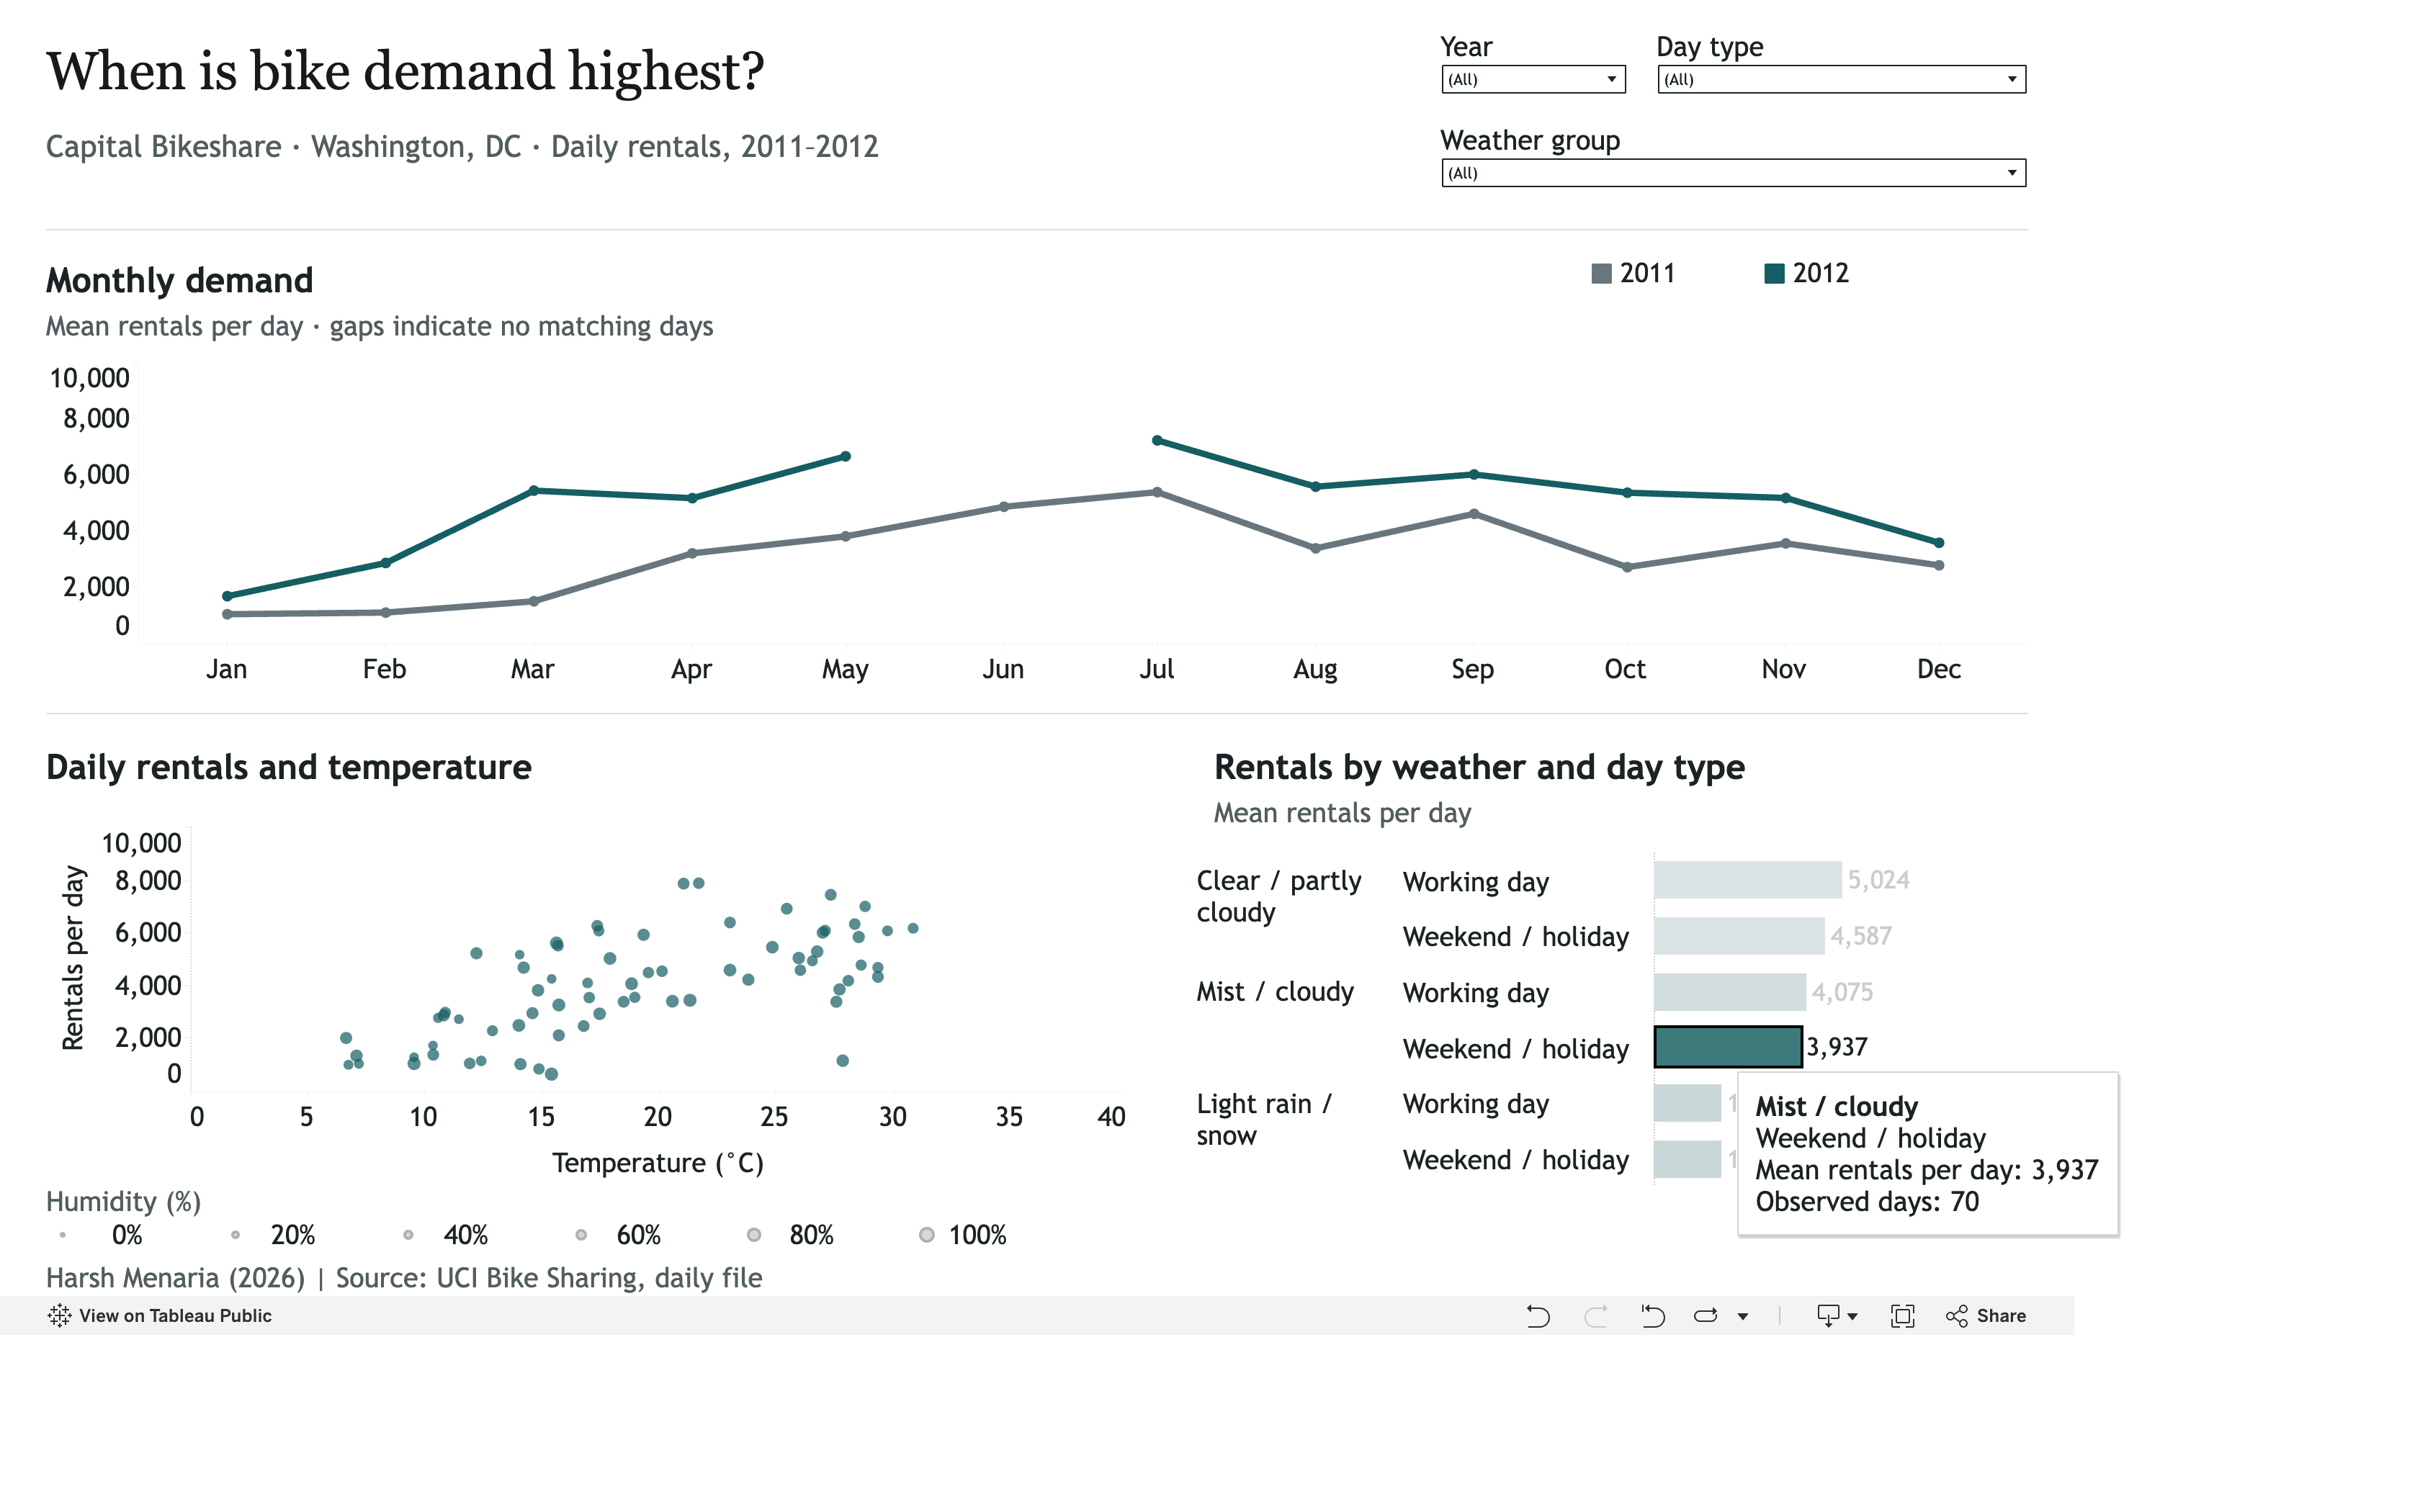

What the dashboard file says about the page in this screenshot:
{"tool":"tableau","page":{"name":"Bike demand | Prototype","canvas":[1440,900],"ordinal":0},"visuals":[{"type":"blank","box":[0,0,1440,900]},{"type":"filter","title":"01 Monthly demand","param":"[federated.bike_demand].[none:Year:nk]","box":[1000,21,180,54]},{"type":"filter","title":"01 Monthly demand","param":"[federated.bike_demand].[none:DayType:nk]","box":[1200,21,208,54]},{"type":"text","box":[32,23,925,52]},{"type":"text","box":[32,86,925,30]},{"type":"filter","title":"02 Temperature and rentals","param":"[federated.bike_demand].[none:Calculation_1907443823489024:nk]","box":[1000,86,180,54]},{"type":"filter","title":"01 Monthly demand","param":"[federated.bike_demand].[none:Weather:nk]","box":[1200,86,208,54]},{"type":"blank","box":[32,159,1376,1]},{"type":"text","box":[1100,178,308,34]},{"type":"text","box":[32,179,1376,29]},{"type":"text","box":[32,214,1376,24]},{"type":"worksheet","title":"01 Monthly demand","mark":"Line","rows":["DailyRentals"],"cols":["Calculation_1435546893139968"],"box":[32,251,1376,165]},{"type":"blank","box":[32,435,1376,1]},{"type":"text","box":[32,457,750,29]},{"type":"text","box":[843,457,565,29]},{"type":"text","box":[843,492,565,30]},{"type":"worksheet","title":"02 Temperature and rentals","mark":"Shape","rows":["DailyRentals"],"cols":["TemperatureC"],"box":[32,514,750,310]},{"type":"worksheet","title":"03 Weather and day type","mark":"Bar","rows":["Weather","DayType"],"cols":["DailyRentals"],"box":[825,532,583,292]},{"type":"text","box":[32,819,600,30]},{"type":"text","box":[32,846,216,35]},{"type":"text","box":[252,846,223.2,35]},{"type":"text","box":[475.2,846,302.4,35]},{"type":"text","box":[32,875,1376,23]}]}

Visuals, with their boxes on the page's 1440x900 design canvas (x1, y1, x2, y2). These are canvas units, not pixel positions in the 2420x1512 screenshot, which may show the page scaled, cropped or inside an application window:
blank: bbox(0, 0, 1440, 900)
"01 Monthly demand" filter: bbox(1000, 21, 1180, 75)
"01 Monthly demand" filter: bbox(1200, 21, 1408, 75)
text: bbox(32, 23, 957, 75)
text: bbox(32, 86, 957, 116)
"02 Temperature and rentals" filter: bbox(1000, 86, 1180, 140)
"01 Monthly demand" filter: bbox(1200, 86, 1408, 140)
blank: bbox(32, 159, 1408, 160)
text: bbox(1100, 178, 1408, 212)
text: bbox(32, 179, 1408, 208)
text: bbox(32, 214, 1408, 238)
"01 Monthly demand" worksheet (Line marks): bbox(32, 251, 1408, 416)
blank: bbox(32, 435, 1408, 436)
text: bbox(32, 457, 782, 486)
text: bbox(843, 457, 1408, 486)
text: bbox(843, 492, 1408, 522)
"02 Temperature and rentals" worksheet (Shape marks): bbox(32, 514, 782, 824)
"03 Weather and day type" worksheet (Bar marks): bbox(825, 532, 1408, 824)
text: bbox(32, 819, 632, 849)
text: bbox(32, 846, 248, 881)
text: bbox(252, 846, 475, 881)
text: bbox(475, 846, 778, 881)
text: bbox(32, 875, 1408, 898)
